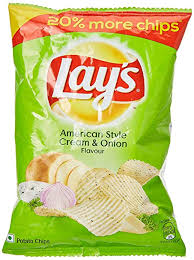lays-small: (9, 2, 189, 257)
